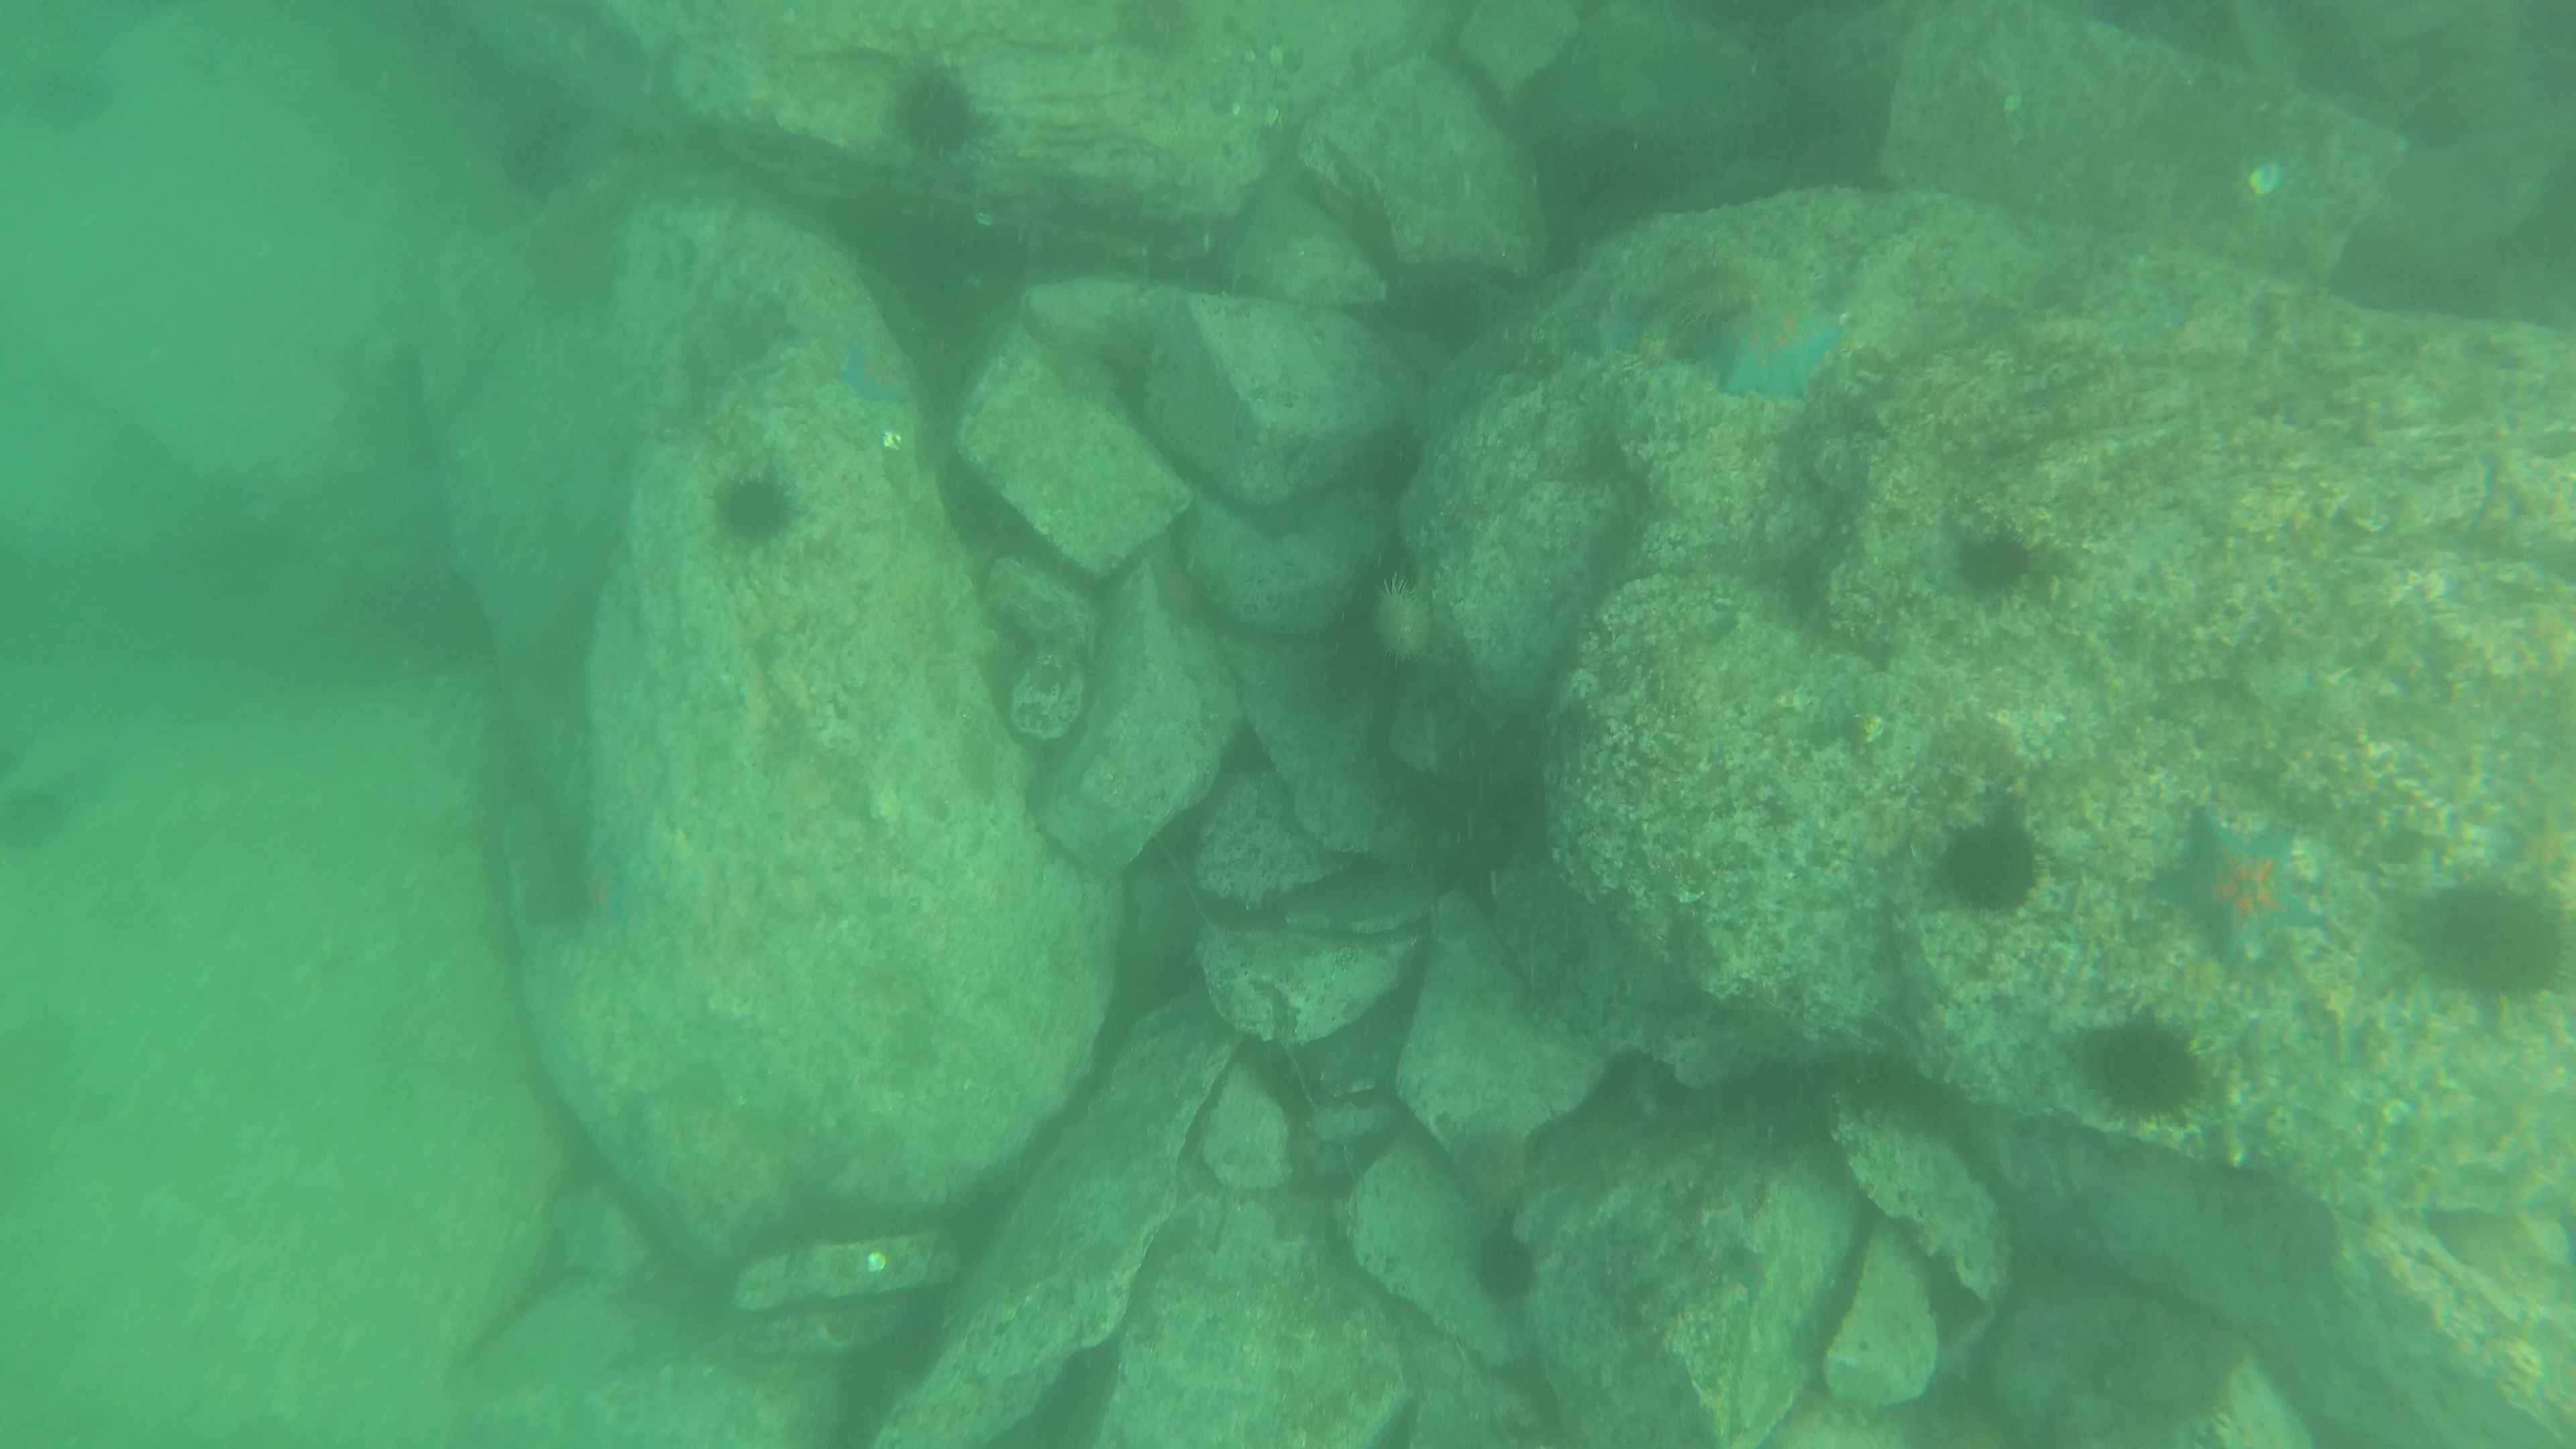echinus: (2404, 869, 2571, 1008), (2072, 1008, 2213, 1127), (1644, 248, 1778, 364), (1928, 810, 2049, 920), (1437, 1116, 1546, 1228), (879, 57, 991, 165), (1362, 566, 1456, 674), (1943, 517, 2047, 607), (704, 462, 803, 552), (1099, 2, 1217, 69), (1461, 1219, 1546, 1311), (0, 771, 80, 862)
starfish: (2153, 805, 2325, 970), (1702, 285, 1849, 407), (826, 320, 925, 416), (1560, 283, 1661, 368)
